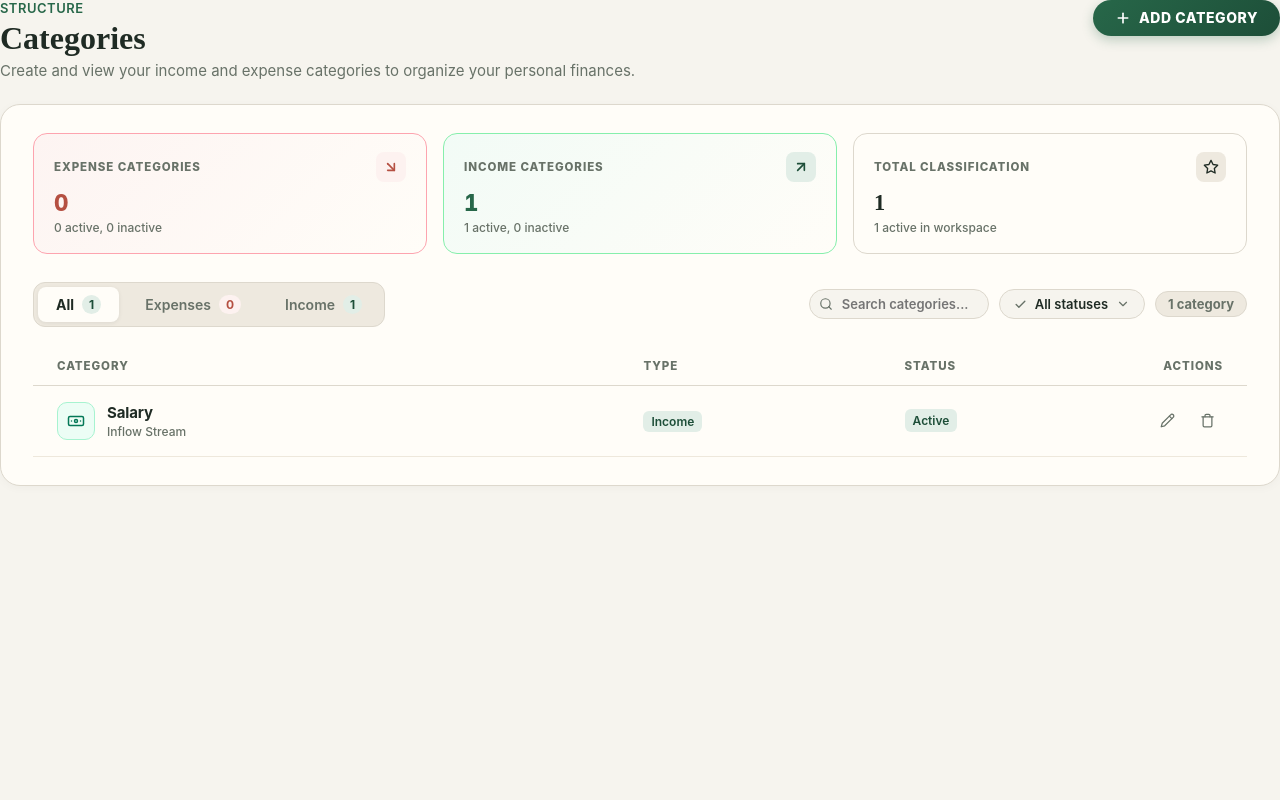
Test: CategoriesView › opens EditCategoryModal when Edit button is clicked
Click the button named "Edit Salary" at (1167, 421), box [1151,405,1183,437]
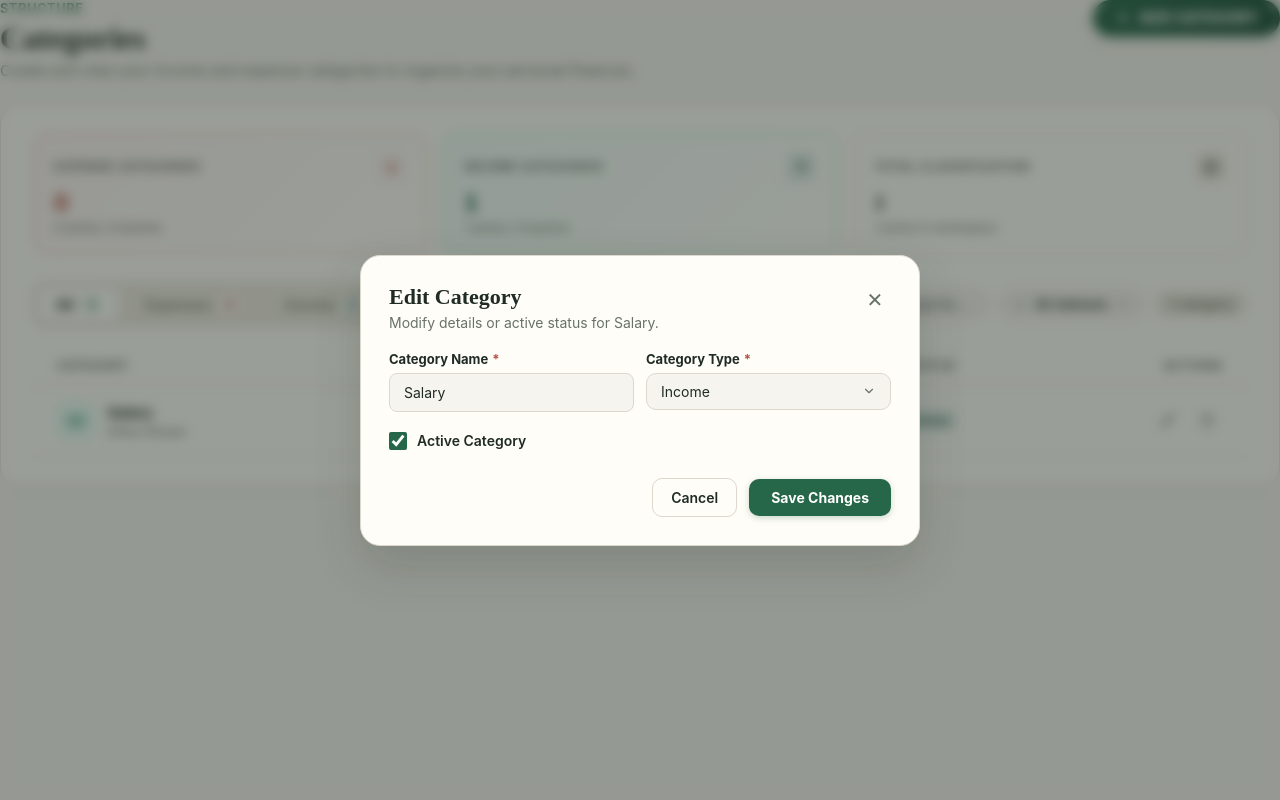
Check: the dialog with test id "edit-category-modal" is shown, box [360,254,920,546]
Check: the heading "Edit Category" is shown, box [389,284,522,308]
